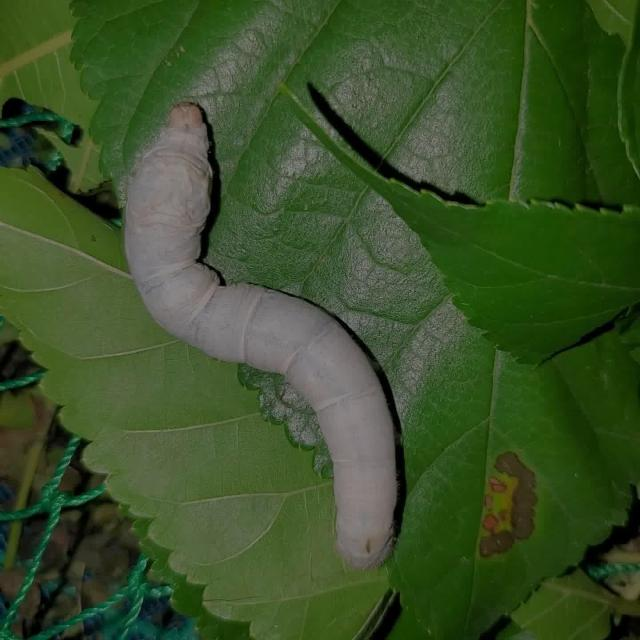Healthy: (114, 90, 406, 574)
